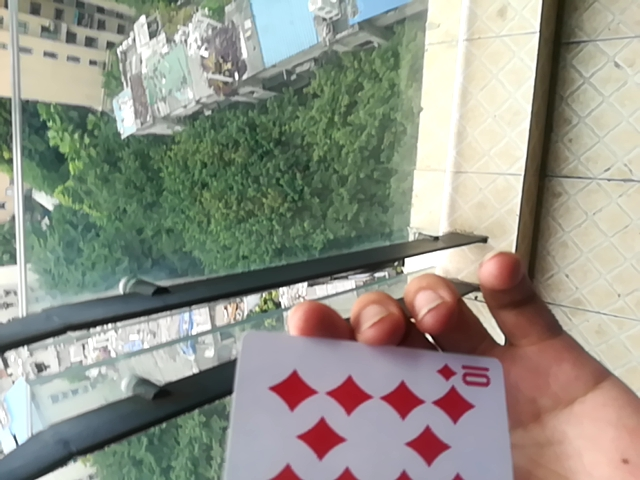fk 10: (219, 330, 509, 480)
